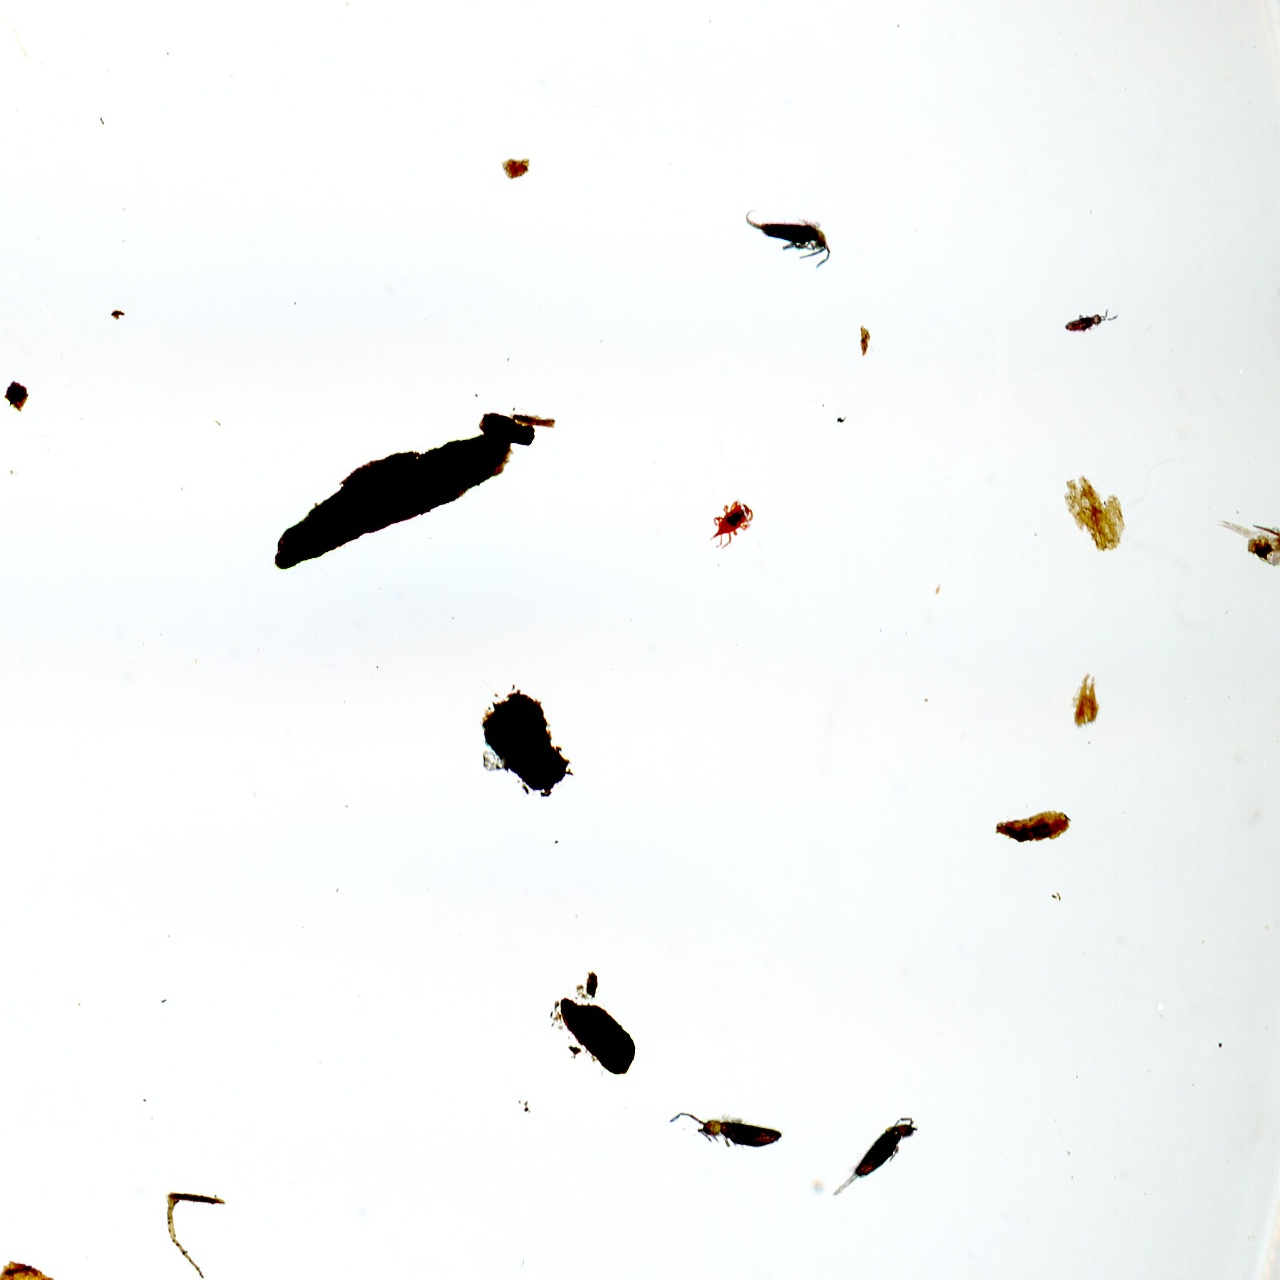arthropod: (816, 1099, 931, 1217), (743, 205, 835, 270), (666, 1108, 794, 1152), (695, 490, 767, 561), (1212, 509, 1280, 568), (1061, 302, 1119, 340)
